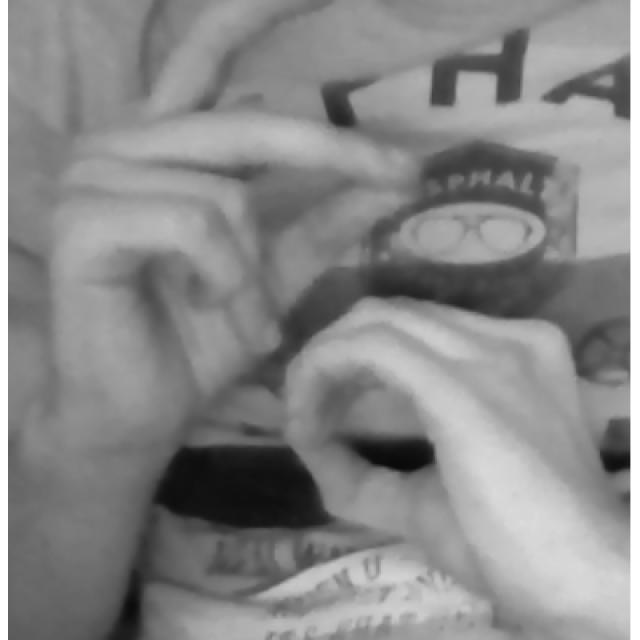O--: (45, 0, 616, 589)
